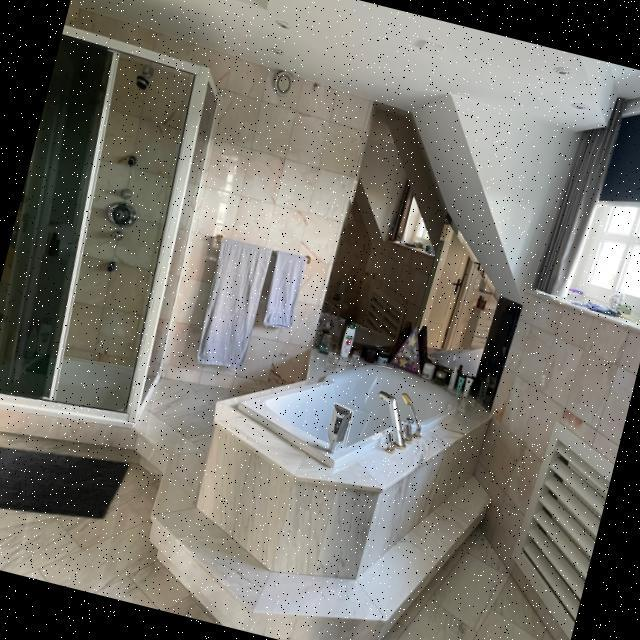bath: (225, 325, 500, 505)
douche: (0, 23, 238, 446)
